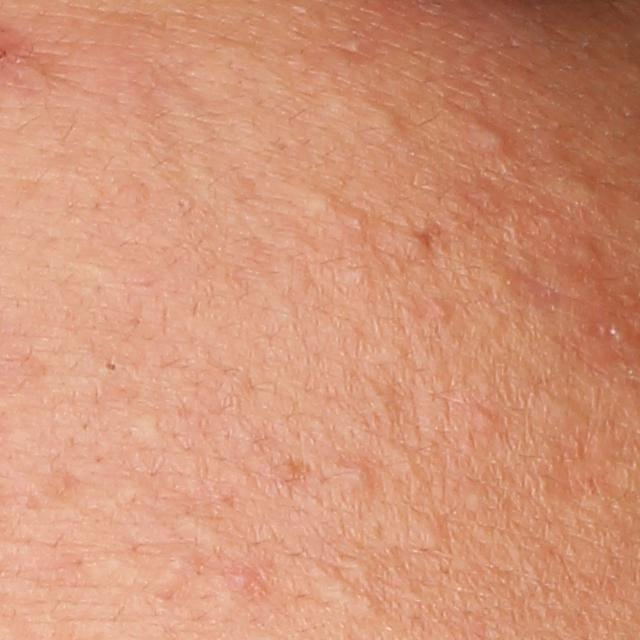comedo: (543, 169, 596, 210), (360, 100, 406, 137), (342, 261, 375, 293), (346, 459, 377, 490), (304, 190, 333, 219), (571, 238, 601, 265), (468, 406, 497, 433), (432, 303, 458, 323), (100, 355, 122, 376), (345, 209, 366, 231)
